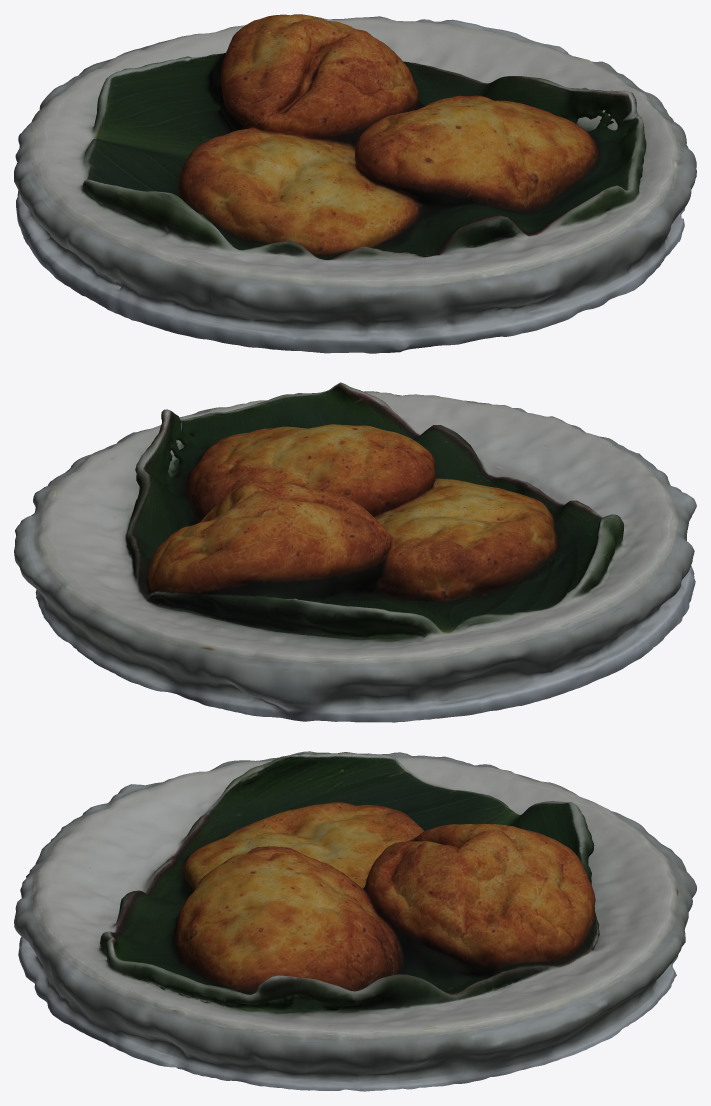
Rendered from ppppan_de_maiz.glb.
3 views of the same model, one above another, from view 1: azimuth 30°, elevation 25°; view 2: azimuth 150°, elevation 25°; view 3: azimuth 270°, elevation 25° (orthographic).
Parts seen in each view (by area): view 1: Retopo_3DModel; view 2: Retopo_3DModel; view 3: Retopo_3DModel.
Part boxes in pixels (<box>): Retopo_3DModel: <box>14,14,696,353</box>; Retopo_3DModel: <box>14,382,696,722</box>; Retopo_3DModel: <box>14,751,696,1091</box>.
Bounding box in the file's own units: 4.97 × 1.06 × 4.98.
1 material, 1 textured.
